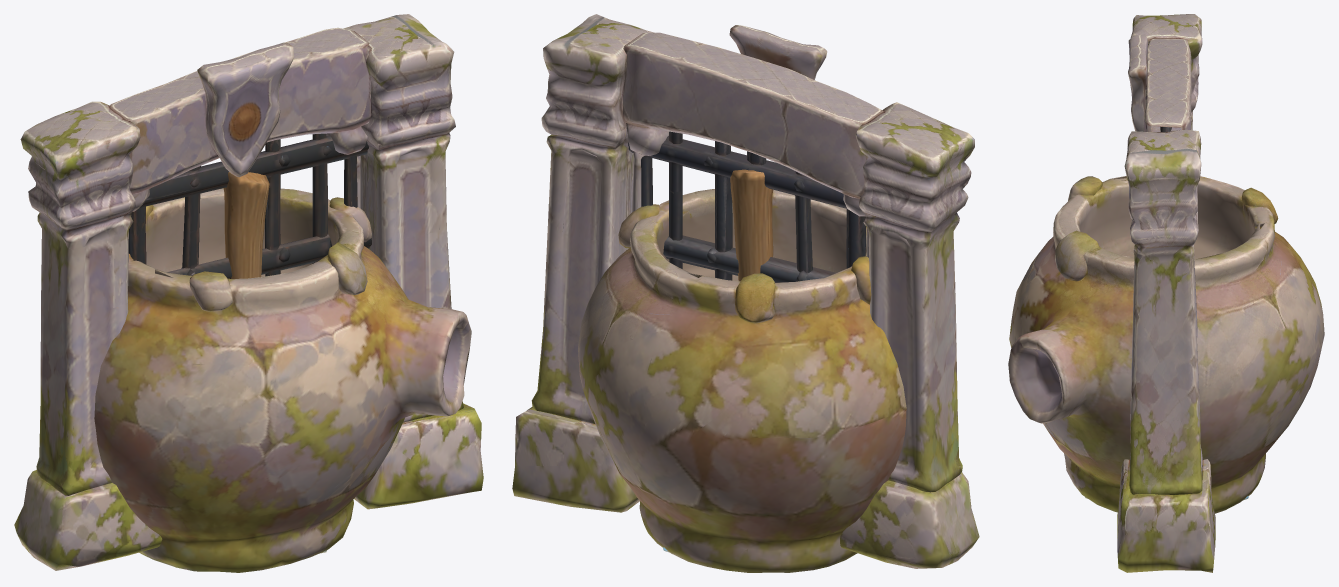
File: puzle_forgotten.glb
The picture shows the model from 3 angles, left to right: view 1: azimuth 30°, elevation 25°; view 2: azimuth 150°, elevation 25°; view 3: azimuth 270°, elevation 25°; orthographic projection. The views are drawn at different scales.
Parts seen in each view (by area): view 1: reja_marco, tinaja_ruina_vacia, reja_hoja, poste_vara; view 2: reja_marco, tinaja_ruina_vacia, reja_hoja, poste_vara; view 3: tinaja_ruina_vacia, reja_marco.
Part boxes in pixels (x1=…): reja_marco: x1=14, y1=14, x2=483, y2=570; tinaja_ruina_vacia: x1=94, y1=188, x2=471, y2=572; reja_hoja: x1=128, y1=133, x2=371, y2=278; poste_vara: x1=223, y1=172, x2=269, y2=278; reja_marco: x1=512, y1=14, x2=979, y2=568; tinaja_ruina_vacia: x1=578, y1=189, x2=906, y2=572; reja_hoja: x1=628, y1=131, x2=865, y2=282; poste_vara: x1=730, y1=169, x2=773, y2=281; tinaja_ruina_vacia: x1=1008, y1=176, x2=1324, y2=513; reja_marco: x1=1117, y1=14, x2=1215, y2=572.
Bounding box in the file's own units: 2.2 × 2.4 × 1.61.
1 material, 1 textured.
